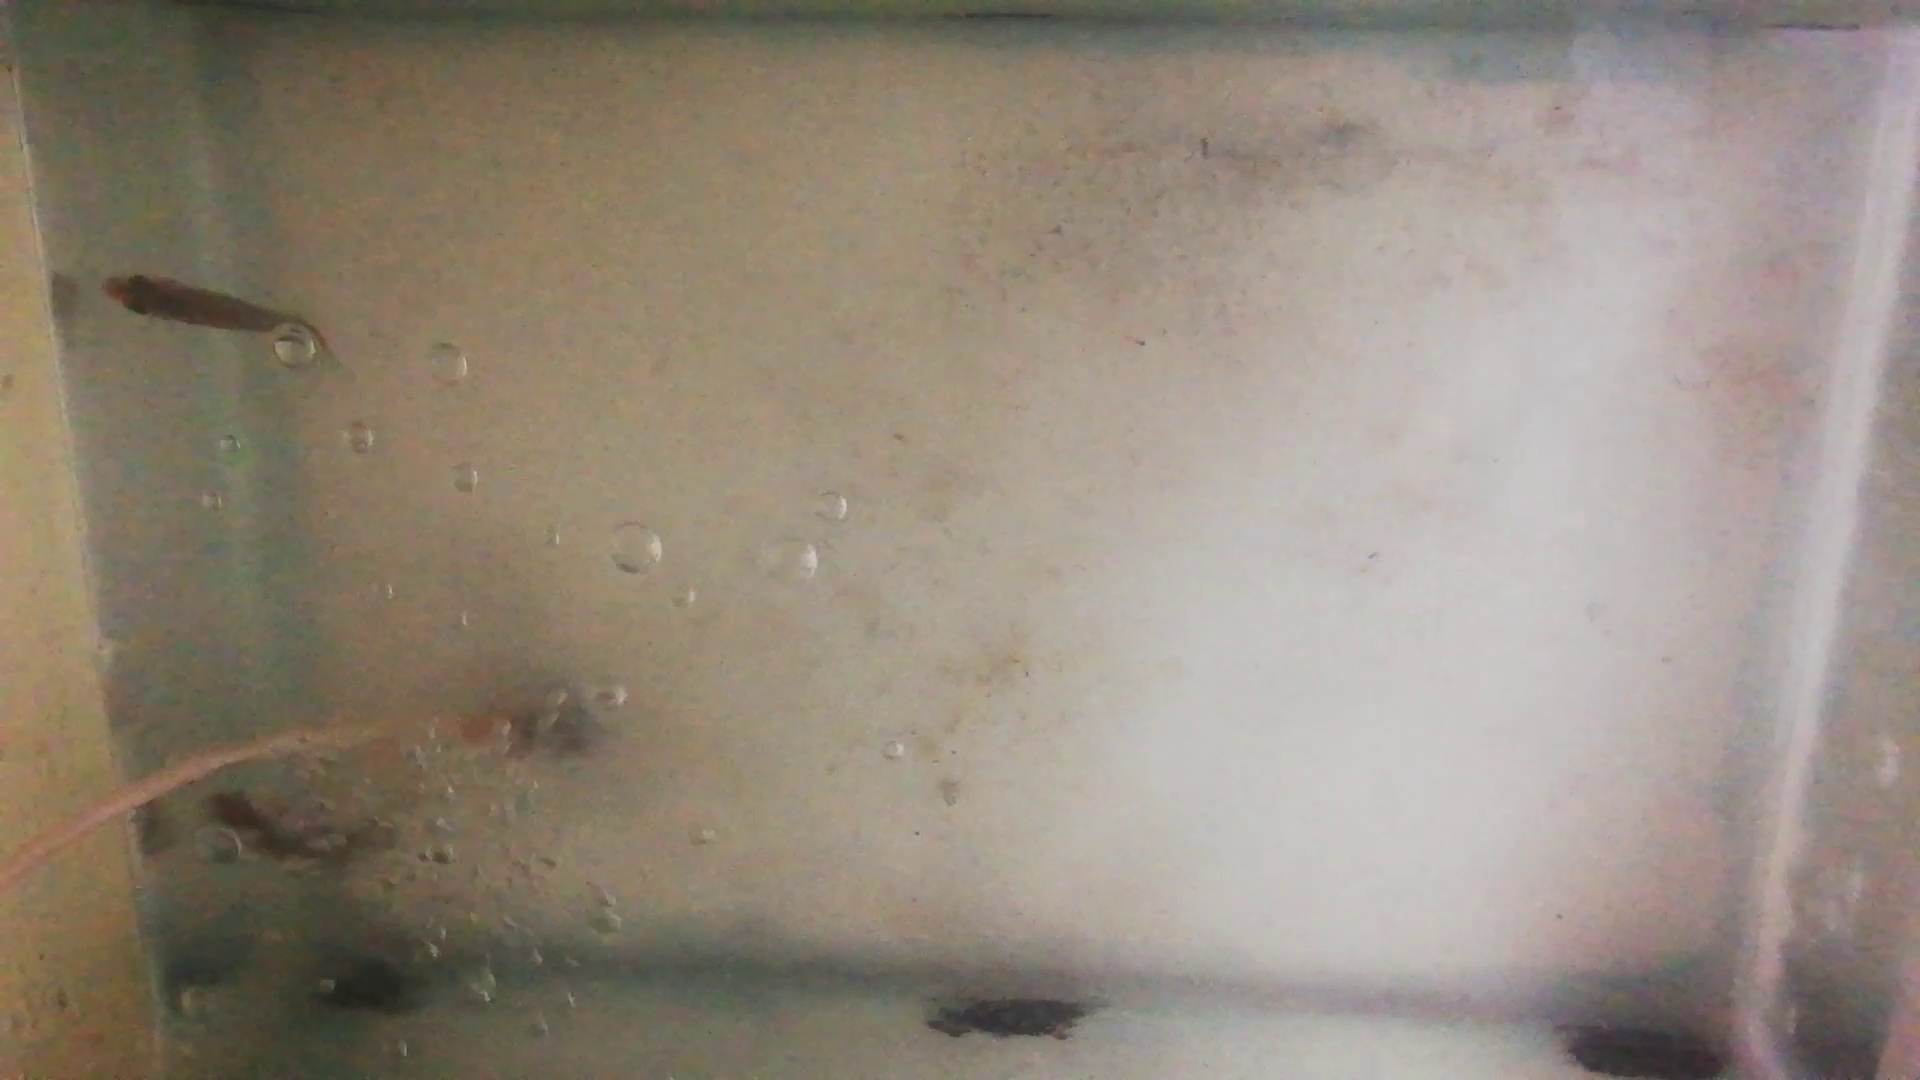fish: (198, 785, 377, 873), (95, 270, 298, 338)
